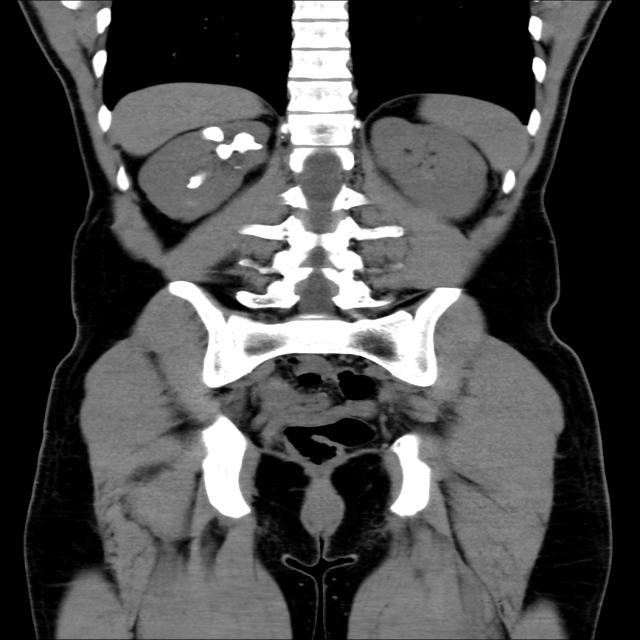kidneystone: (217, 132, 262, 159), (202, 126, 224, 142), (187, 174, 206, 189)
